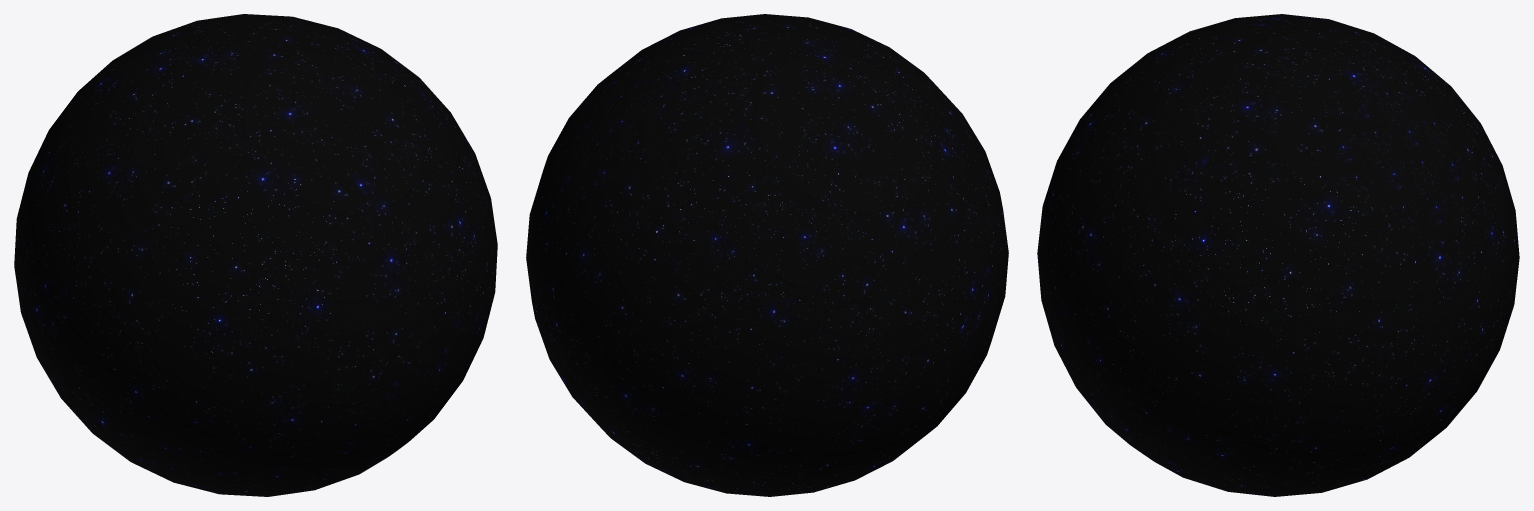
The model's file is spaceani.fbx.
The picture shows the model from 3 angles, left to right: view 1: azimuth 30°, elevation 25°; view 2: azimuth 150°, elevation 25°; view 3: azimuth 270°, elevation 25°; orthographic projection.
Parts seen in each view (by area): view 1: polygon0; view 2: polygon0; view 3: polygon0.
Boxes of the visible parts, box(x1,y1,x2,y2) form: polygon0: box(14, 14, 497, 496); polygon0: box(526, 14, 1008, 496); polygon0: box(1037, 14, 1519, 496).
Size of the model in its own units: 28770 by 28760 by 28721.
Materials: 1 (1 with a texture image).
